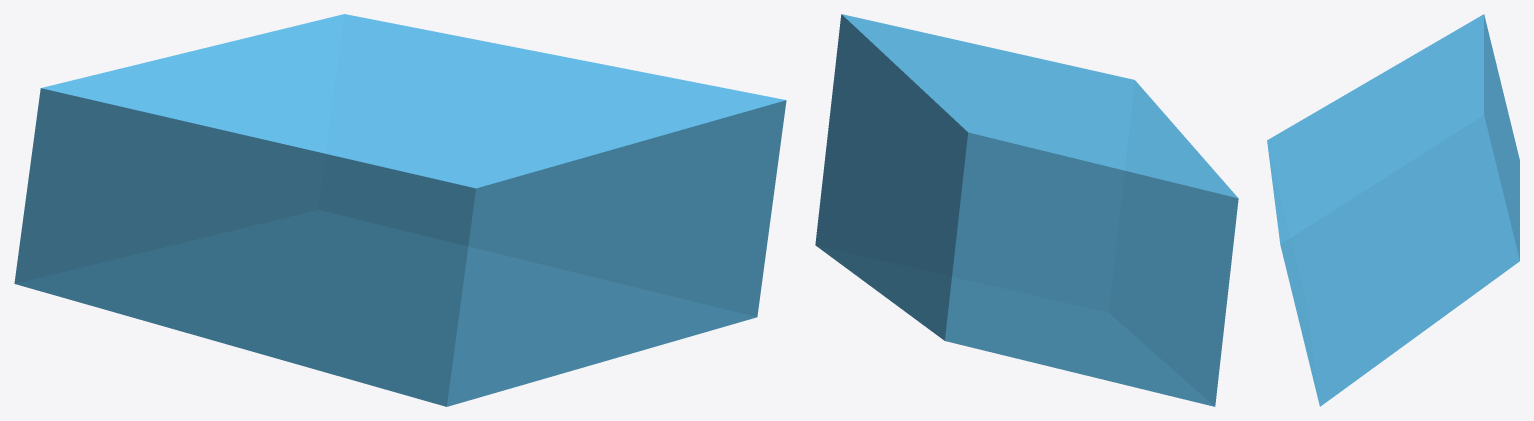
File: Event_420107950_HBrechit_34.fbx
3 views of the same model, side by side, from view 1: azimuth 30°, elevation 25°; view 2: azimuth 150°, elevation 25°; view 3: azimuth 270°, elevation 25° (orthographic). The views are drawn at different scales.
Visible parts, largest first — view 1: Model; view 2: Model; view 3: Model.
Part boxes in pixels (left/top/right/bottom): Model: left=14, top=14, right=786, bottom=406; Model: left=815, top=14, right=1238, bottom=406; Model: left=1267, top=14, right=1519, bottom=406.
Size of the model in its own units: 1.14 by 0.5307 by 0.6141.
